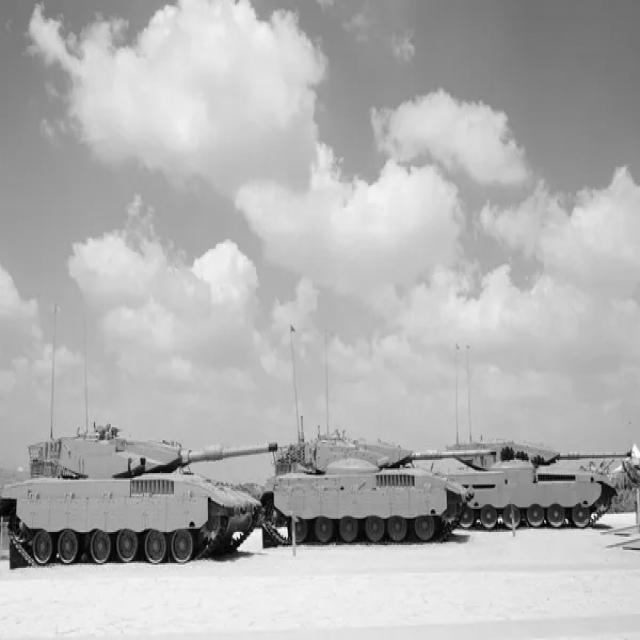Tank: (0, 408, 281, 573), (262, 421, 497, 550), (452, 426, 634, 544)
